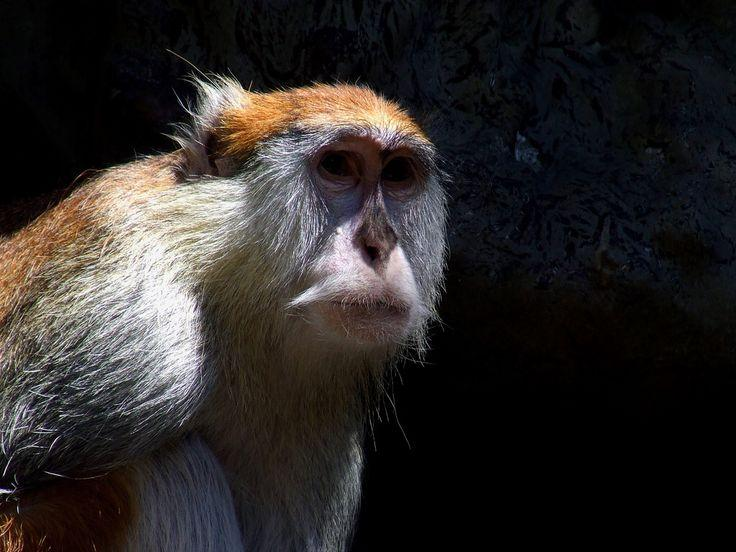monkey: (0, 81, 449, 552)
